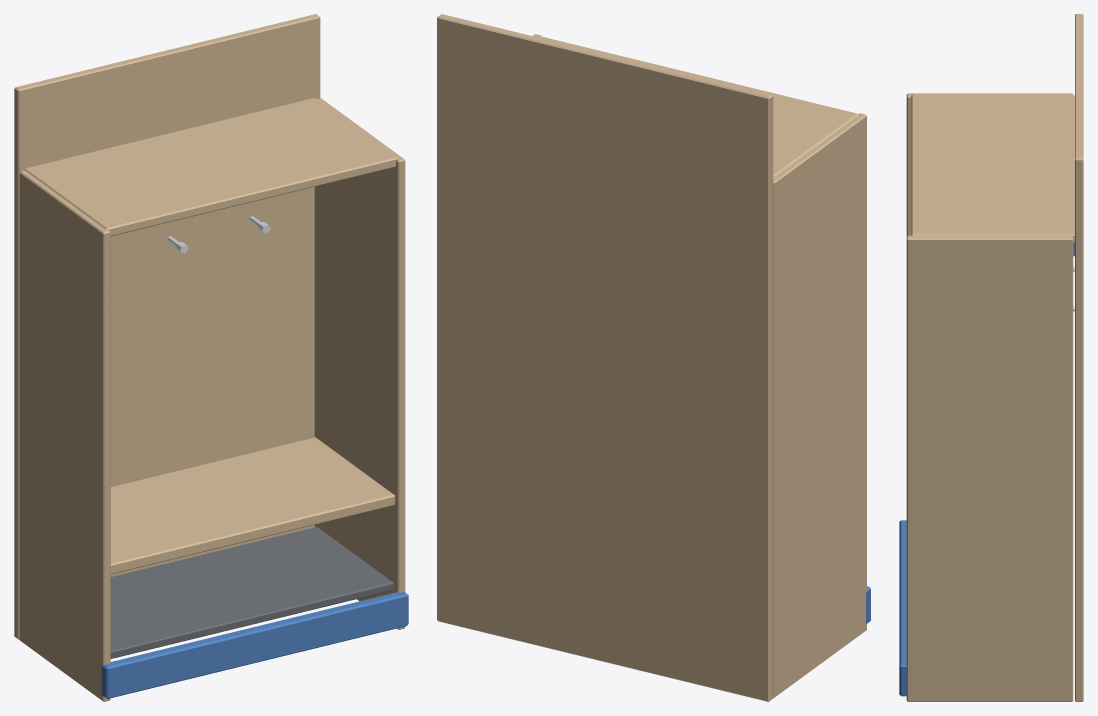
The model's file is ice-hockey-arena-and-locker-room-stall-bench-unit-41d66ece__33727.glb.
The picture shows the model from 3 angles, left to right: view 1: azimuth 30°, elevation 25°; view 2: azimuth 150°, elevation 25°; view 3: azimuth 270°, elevation 25°; orthographic projection. The views are drawn at different scales.
Visible parts, largest first — view 1: stall-bench-unit; view 2: stall-bench-unit; view 3: stall-bench-unit.
Part boxes in pixels (x1,y1,x2,y2): stall-bench-unit: [14, 14, 408, 701]; stall-bench-unit: [437, 14, 870, 701]; stall-bench-unit: [899, 14, 1083, 701].
Size of the model in its own units: 1.18 by 2.05 by 0.63.
